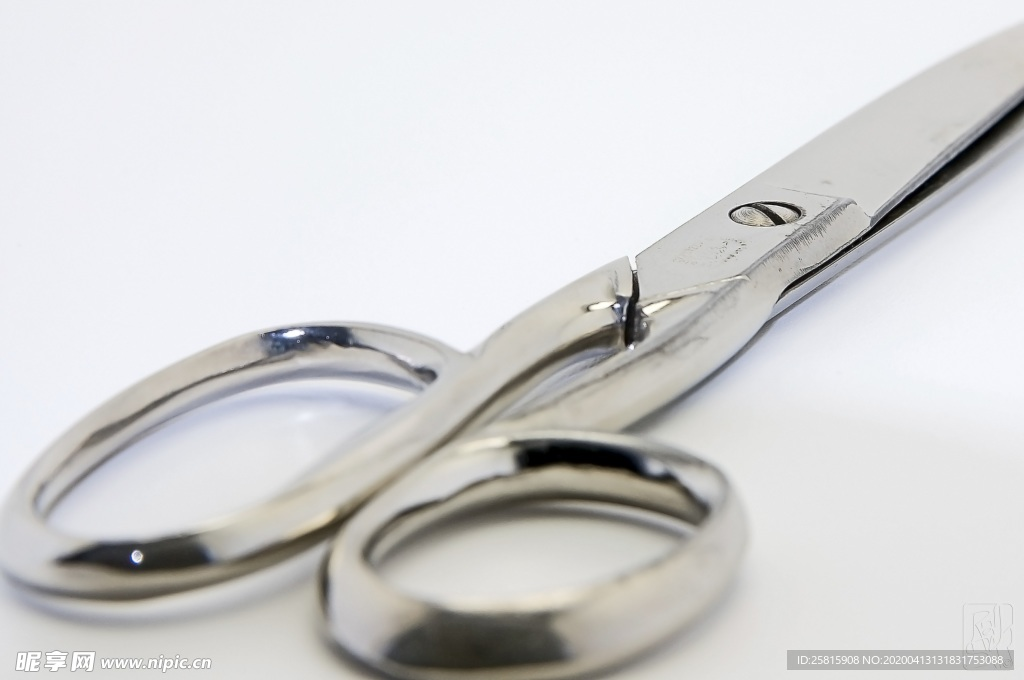scissors: (1, 1, 1020, 678)
